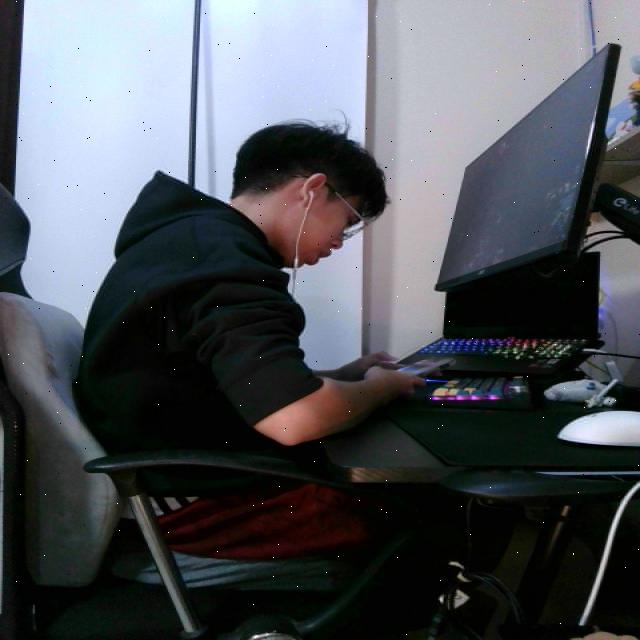Bad: (69, 112, 425, 565)
